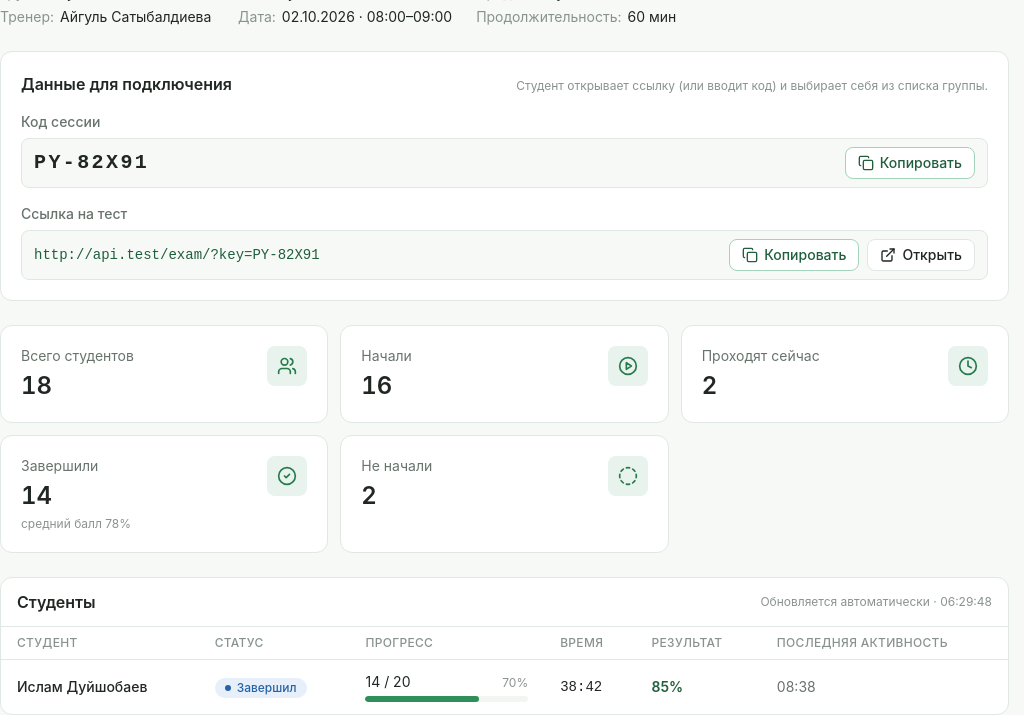
Scenario: ExamDetailPage › opens a finished student’s detailed result
(page scrolled)
Click the button "85%".
click(667, 687)  # box [652, 677, 683, 697]
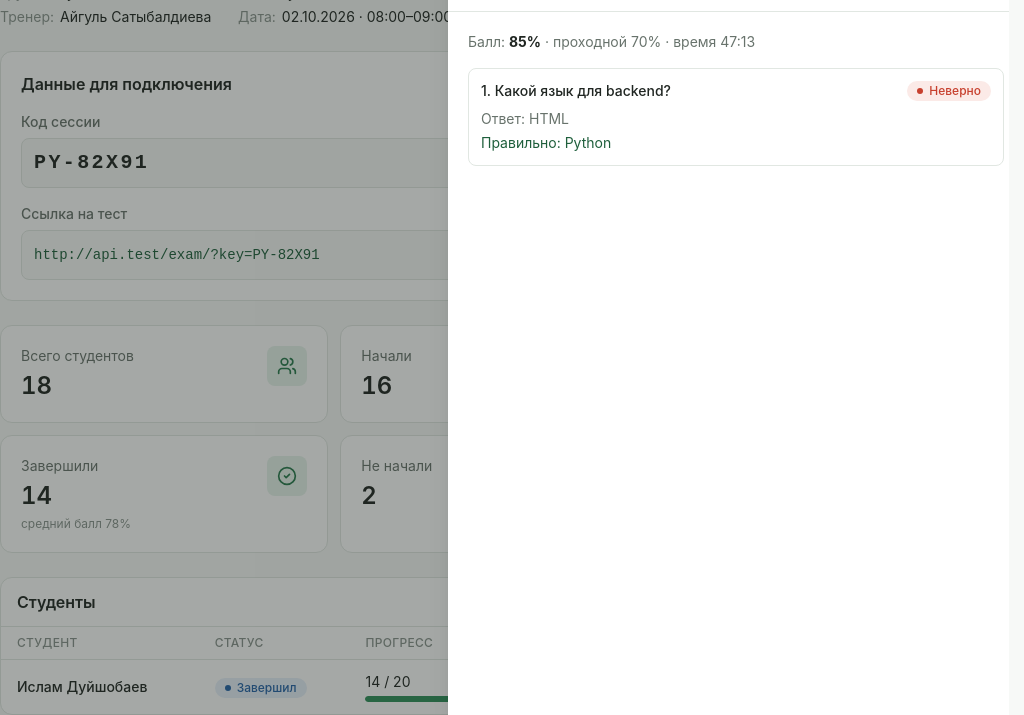
Result: the text "1. Какой язык для backend?" is shown at [481, 81, 671, 101]
Result: the text "Правильно: Python" is shown at [481, 134, 611, 151]
